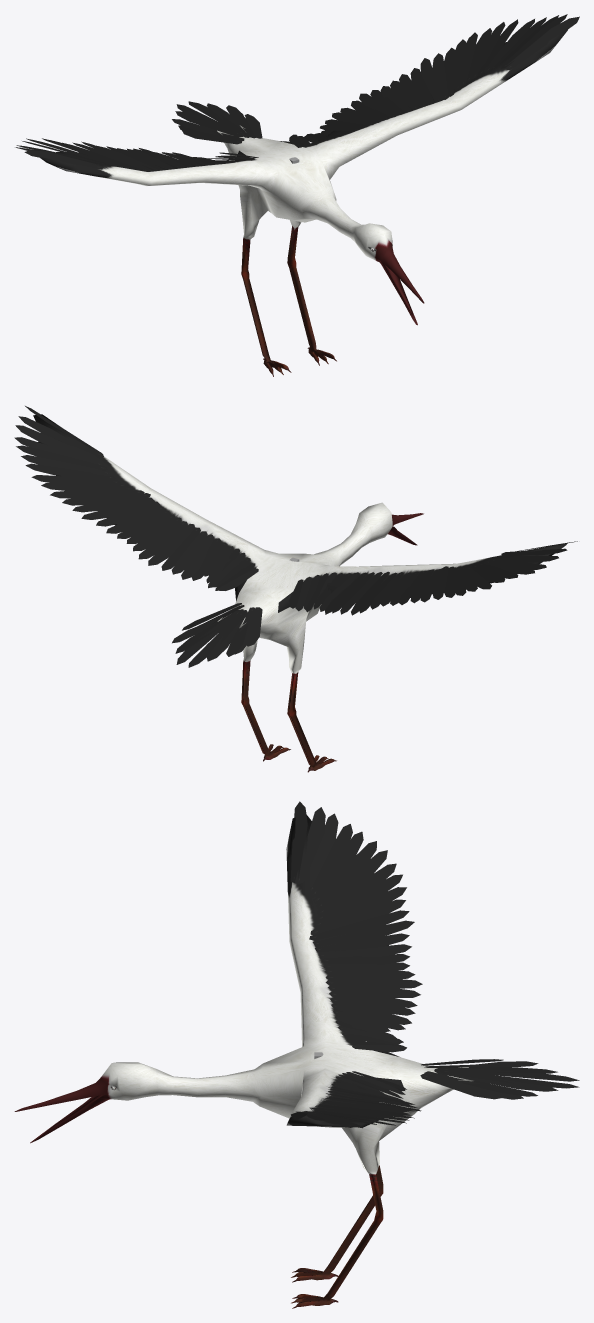
File: crane.obj
3 views of the same model, one above another, from view 1: azimuth 30°, elevation 25°; view 2: azimuth 150°, elevation 25°; view 3: azimuth 270°, elevation 25° (orthographic). The views are drawn at different scales.
Parts seen in each view (by area): view 1: (null); view 2: (null); view 3: (null).
Part boxes in pixels (x1,y1,x2,y2): (null): [15, 14, 579, 376]; (null): [14, 406, 577, 772]; (null): [14, 801, 579, 1308].
Bounding box in the file's own units: 163 × 78.89 × 122.
Materials: 2 (1 with a texture image).
